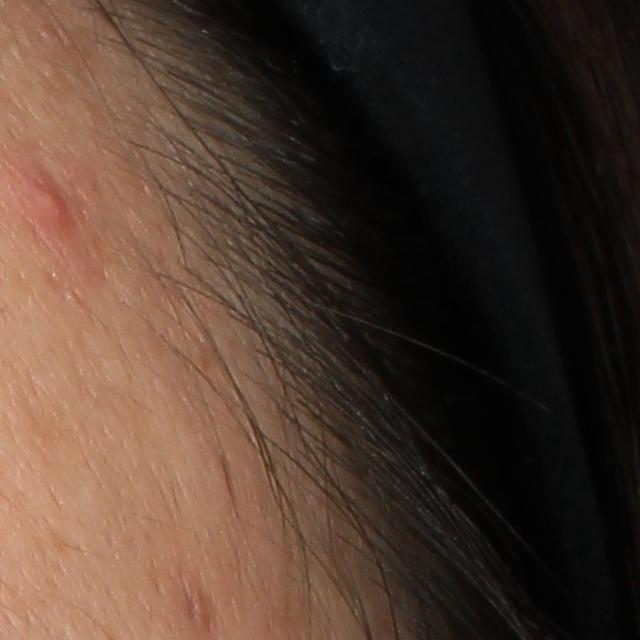papule: (27, 182, 78, 231)
